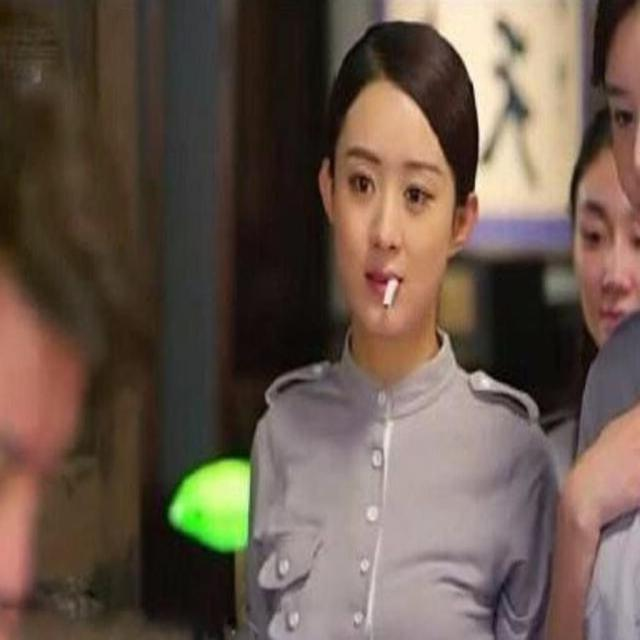smoking: (318, 52, 461, 370)
